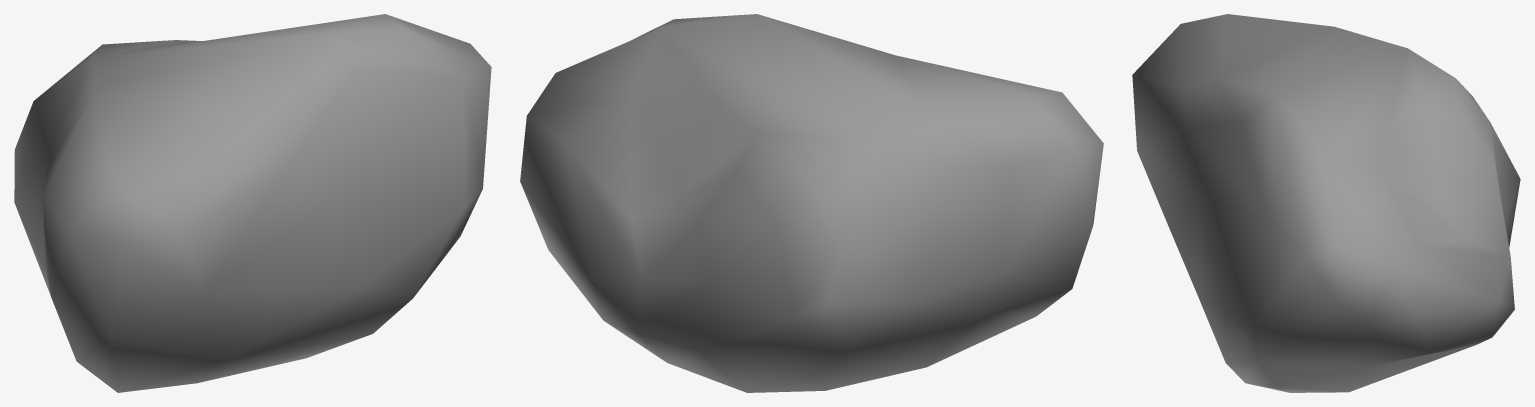
Rendered from SoftRock_08.fbx.
3 renders of one model, left to right at view 1: azimuth 30°, elevation 25°; view 2: azimuth 150°, elevation 25°; view 3: azimuth 270°, elevation 25°, orthographic. The views are drawn at different scales.
Parts seen in each view (by area): view 1: SoftRock_08; view 2: SoftRock_08; view 3: SoftRock_08.
Part boxes in pixels (box(x1,y1,x2,y2)): SoftRock_08: box(14, 14, 491, 392); SoftRock_08: box(520, 14, 1103, 392); SoftRock_08: box(1132, 14, 1520, 392).
Bounding box in the file's own units: 102 × 64.07 × 72.37.
